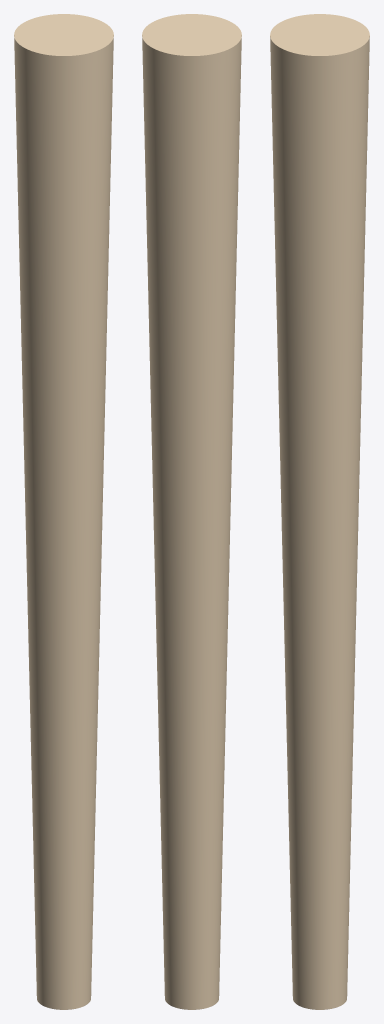
The picture shows the model from 3 angles, left to right: view 1: azimuth 30°, elevation 25°; view 2: azimuth 150°, elevation 25°; view 3: azimuth 330°, elevation 25°; orthographic projection.
Bounding box in the file's own units: 0.0104 × 0.1111 × 0.0104.
